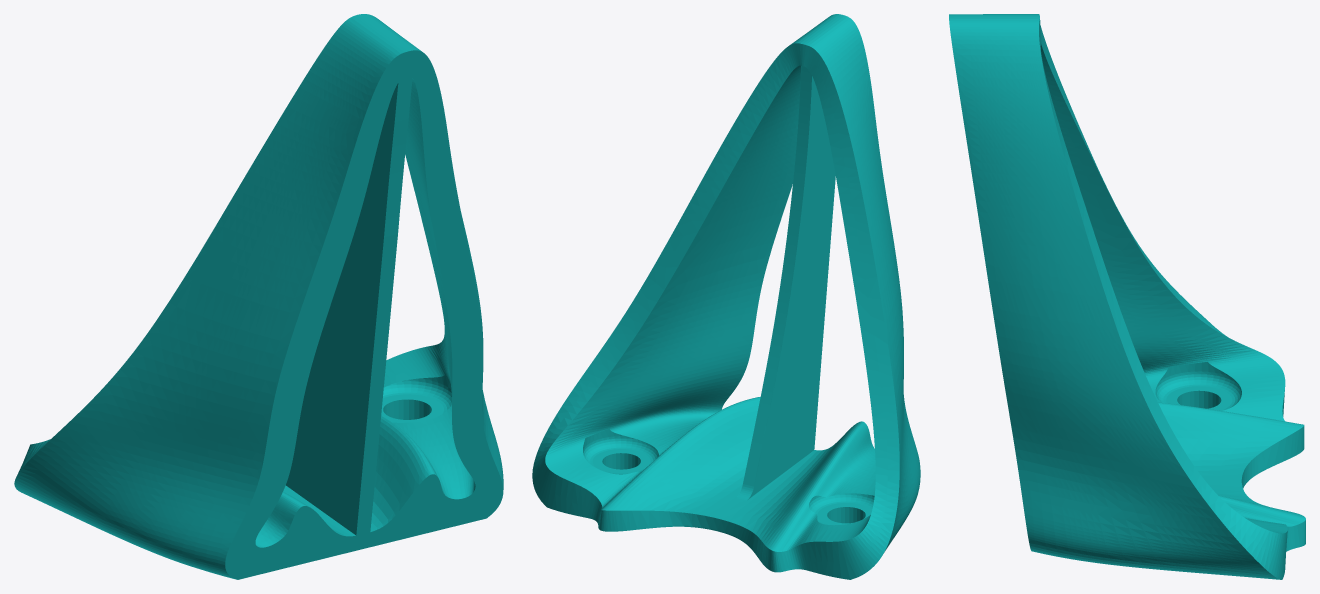
File: switchback fin.fbx
3 views of the same model, side by side, from view 1: azimuth 30°, elevation 25°; view 2: azimuth 150°, elevation 25°; view 3: azimuth 270°, elevation 25° (orthographic). The views are drawn at different scales.
Visible parts, largest first — view 1: switchback fin; view 2: switchback fin; view 3: switchback fin.
Boxes of the visible parts, x1=… form: switchback fin: x1=14, y1=14, x2=503, y2=579; switchback fin: x1=532, y1=14, x2=920, y2=579; switchback fin: x1=949, y1=14, x2=1305, y2=579.
Size of the model in its own units: 31.43 by 35.99 by 24.25.
